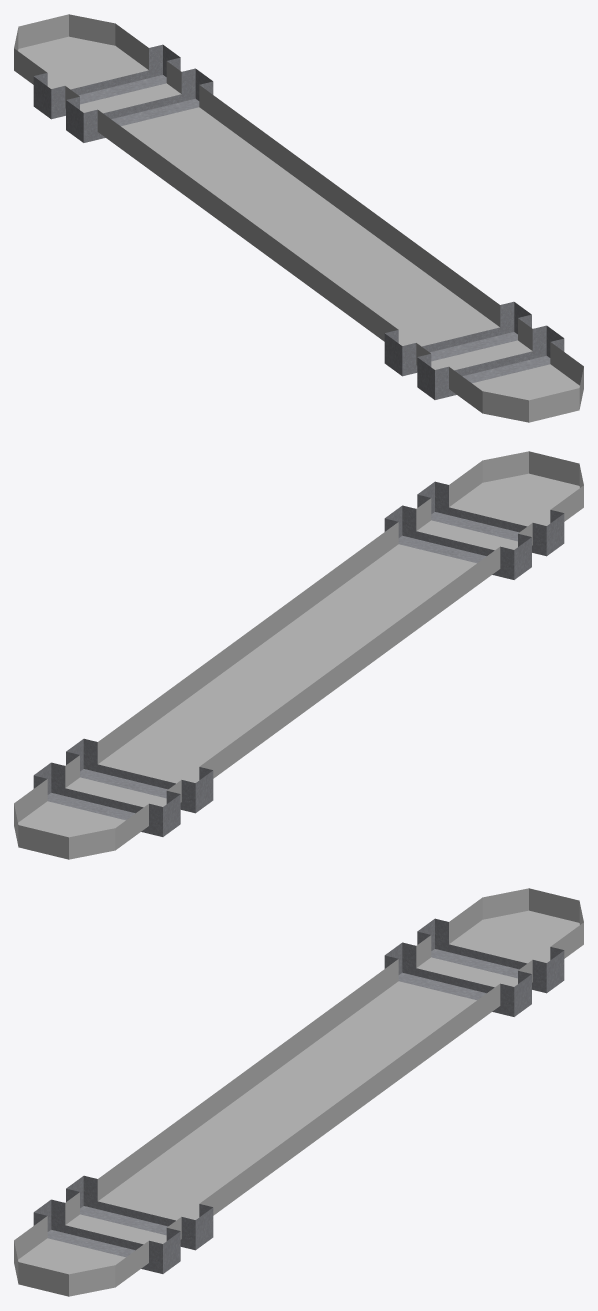
Rendered from lights.fbx.
3 views of the same model, one above another, from view 1: azimuth 30°, elevation 25°; view 2: azimuth 150°, elevation 25°; view 3: azimuth 330°, elevation 25° (orthographic).
Visible parts, largest first — view 1: lights; view 2: lights; view 3: lights.
Part boxes in pixels (x1,y1,x2,y2): lights: (14, 14, 583, 422); lights: (14, 451, 583, 859); lights: (14, 888, 583, 1296).
Size of the model in its own units: 58.59 by 13.05 by 400.
Materials: 1 (1 with a texture image).
